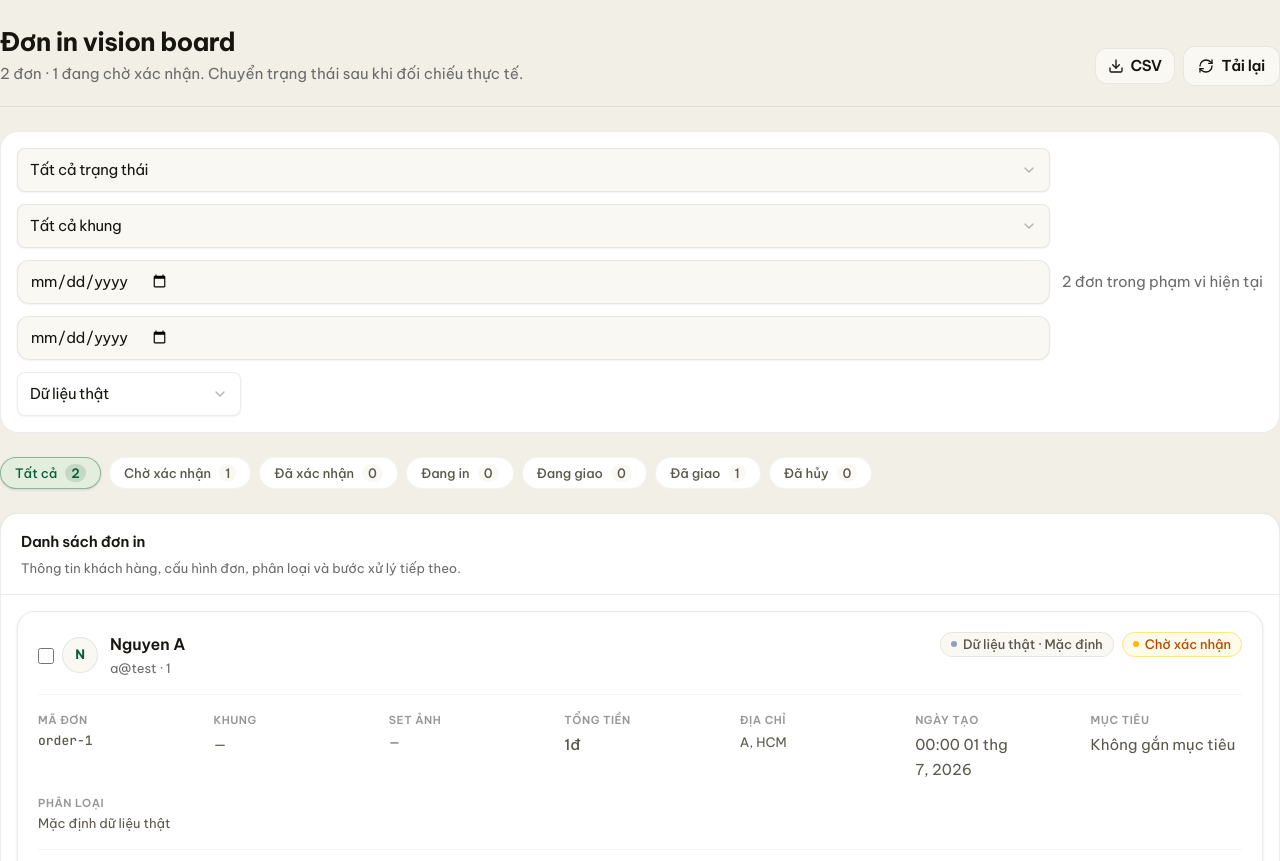
Scenario: AdminOrdersPage server operational data › keeps rendered orders visible when a refresh fails
The image size is (1280, 861).
Expected: the text "Nguyen A" is shown, [110,632,186,657]
Click the button "Tải lại" at (1231, 66), box [1182,46,1279,86]
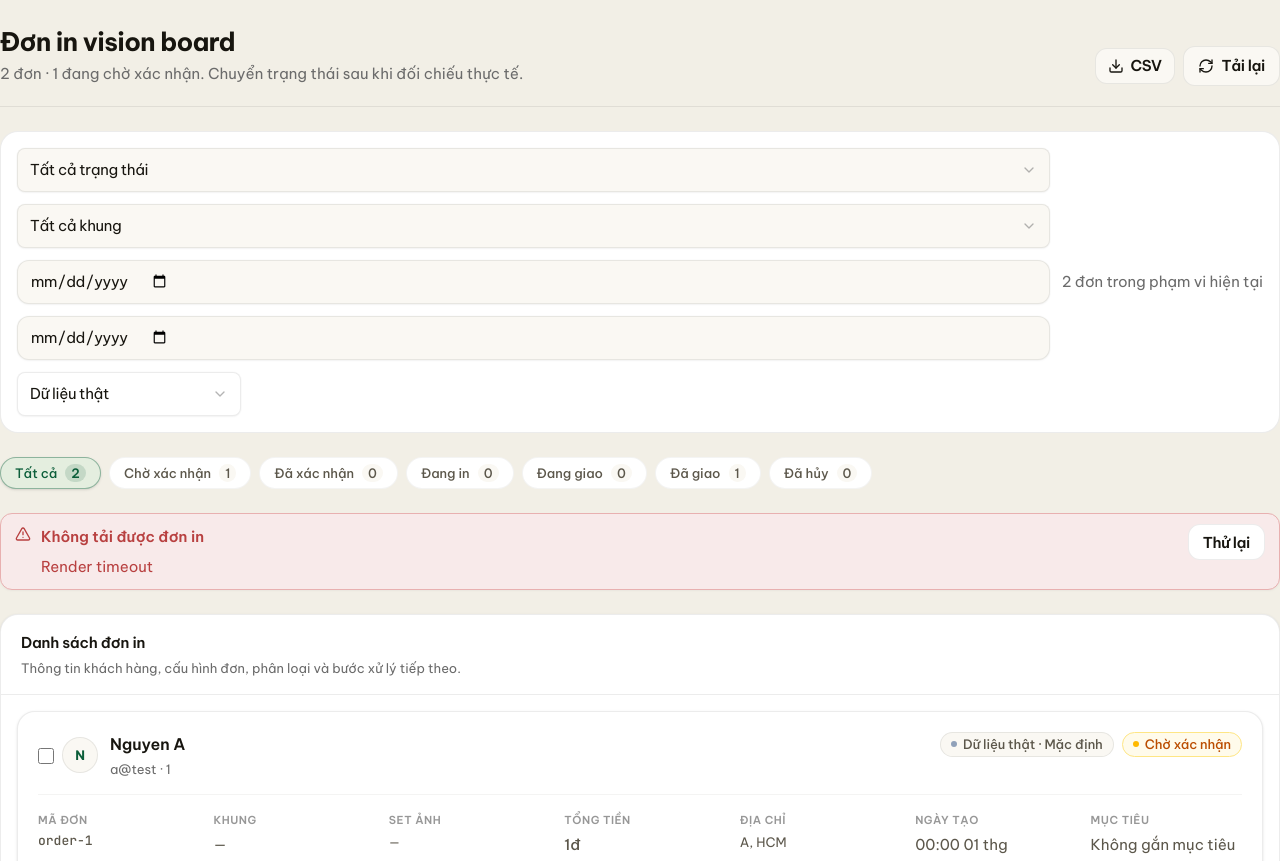
Expected: the text "Nguyen A" is shown, [110,732,186,758]
Now the message shows "Render timeout", box [41,557,153,576]
